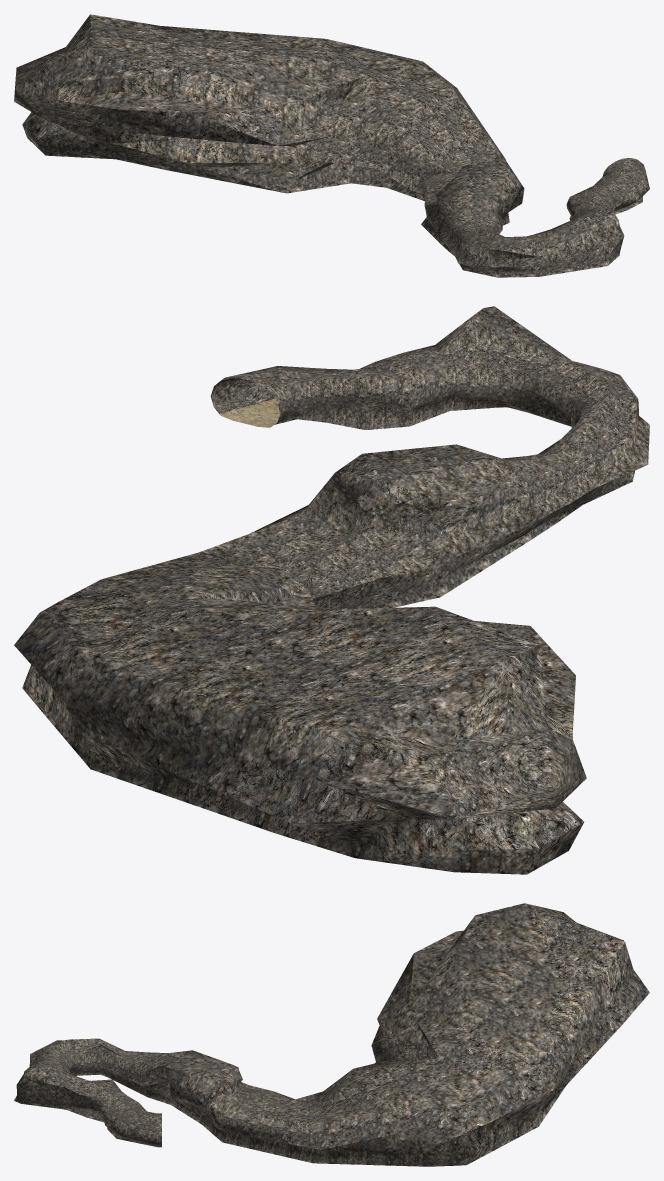
The model's file is pir_m_are_cav_cellar_B.fbx.
3 views of the same model, one above another, from view 1: azimuth 30°, elevation 25°; view 2: azimuth 150°, elevation 25°; view 3: azimuth 270°, elevation 25° (orthographic). The views are drawn at different scales.
Parts seen in each view (by area): view 1: cave_wing_B_wall; view 2: cave_wing_B_wall, cave_wing_B_floor; view 3: cave_wing_B_wall.
Boxes of the visible parts, x1,y1,x2,y2 form: cave_wing_B_wall: [14, 14, 649, 277]; cave_wing_B_wall: [14, 306, 649, 874]; cave_wing_B_floor: [221, 398, 507, 427]; cave_wing_B_wall: [14, 903, 649, 1166].
Size of the model in its own units: 25260 by 7519 by 34716.
Materials: 2 (2 with a texture image).
